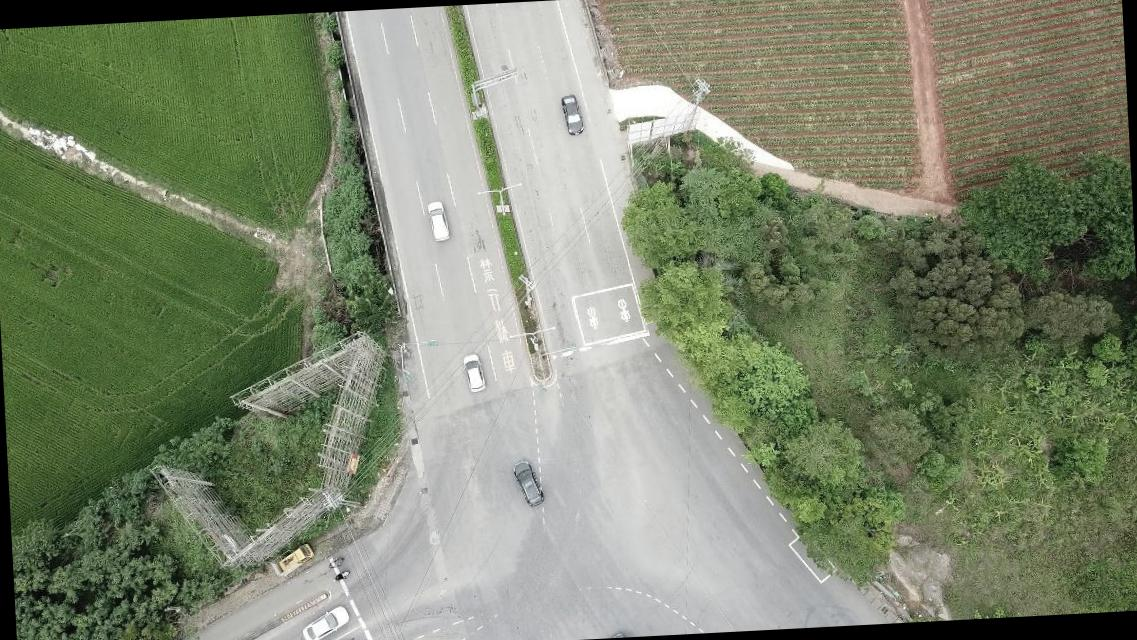vehicle: (510, 458, 546, 508), (301, 603, 350, 639), (426, 198, 449, 244), (460, 354, 486, 394), (560, 94, 582, 139), (278, 542, 312, 570)
